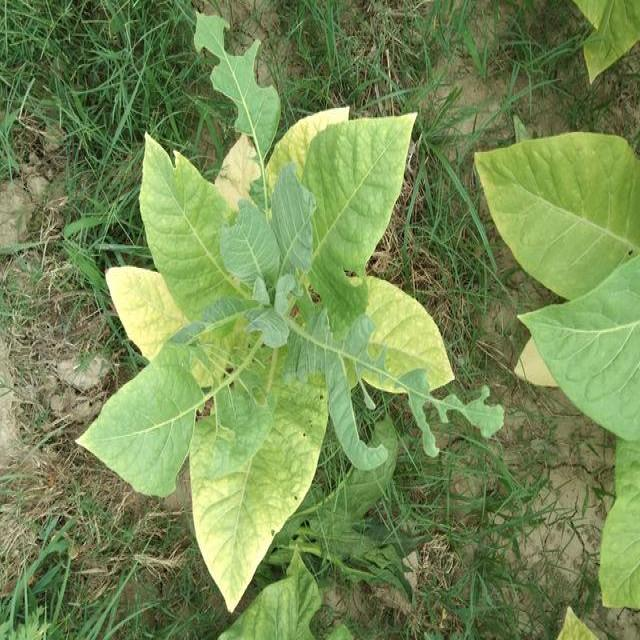crop: (77, 0, 484, 604)
